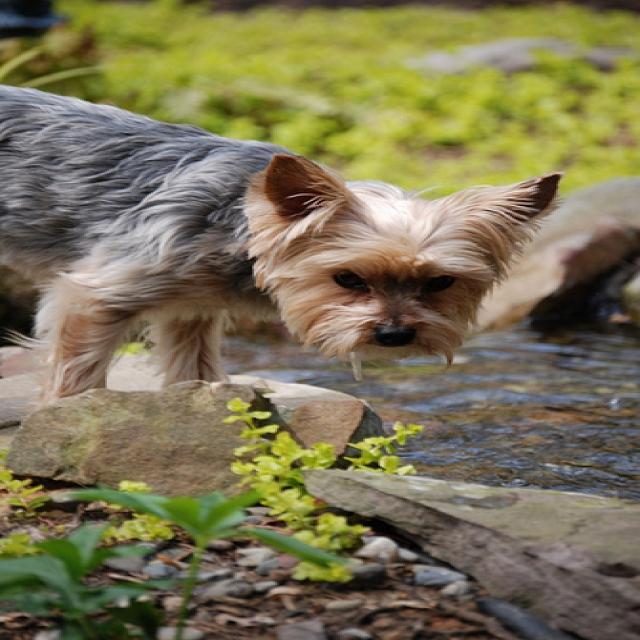dog-yorkshire_terrier: (2, 74, 575, 416)
